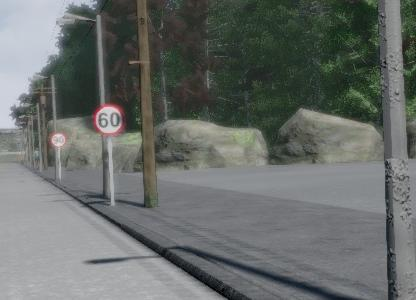Speed_60: (92, 103, 126, 137)
